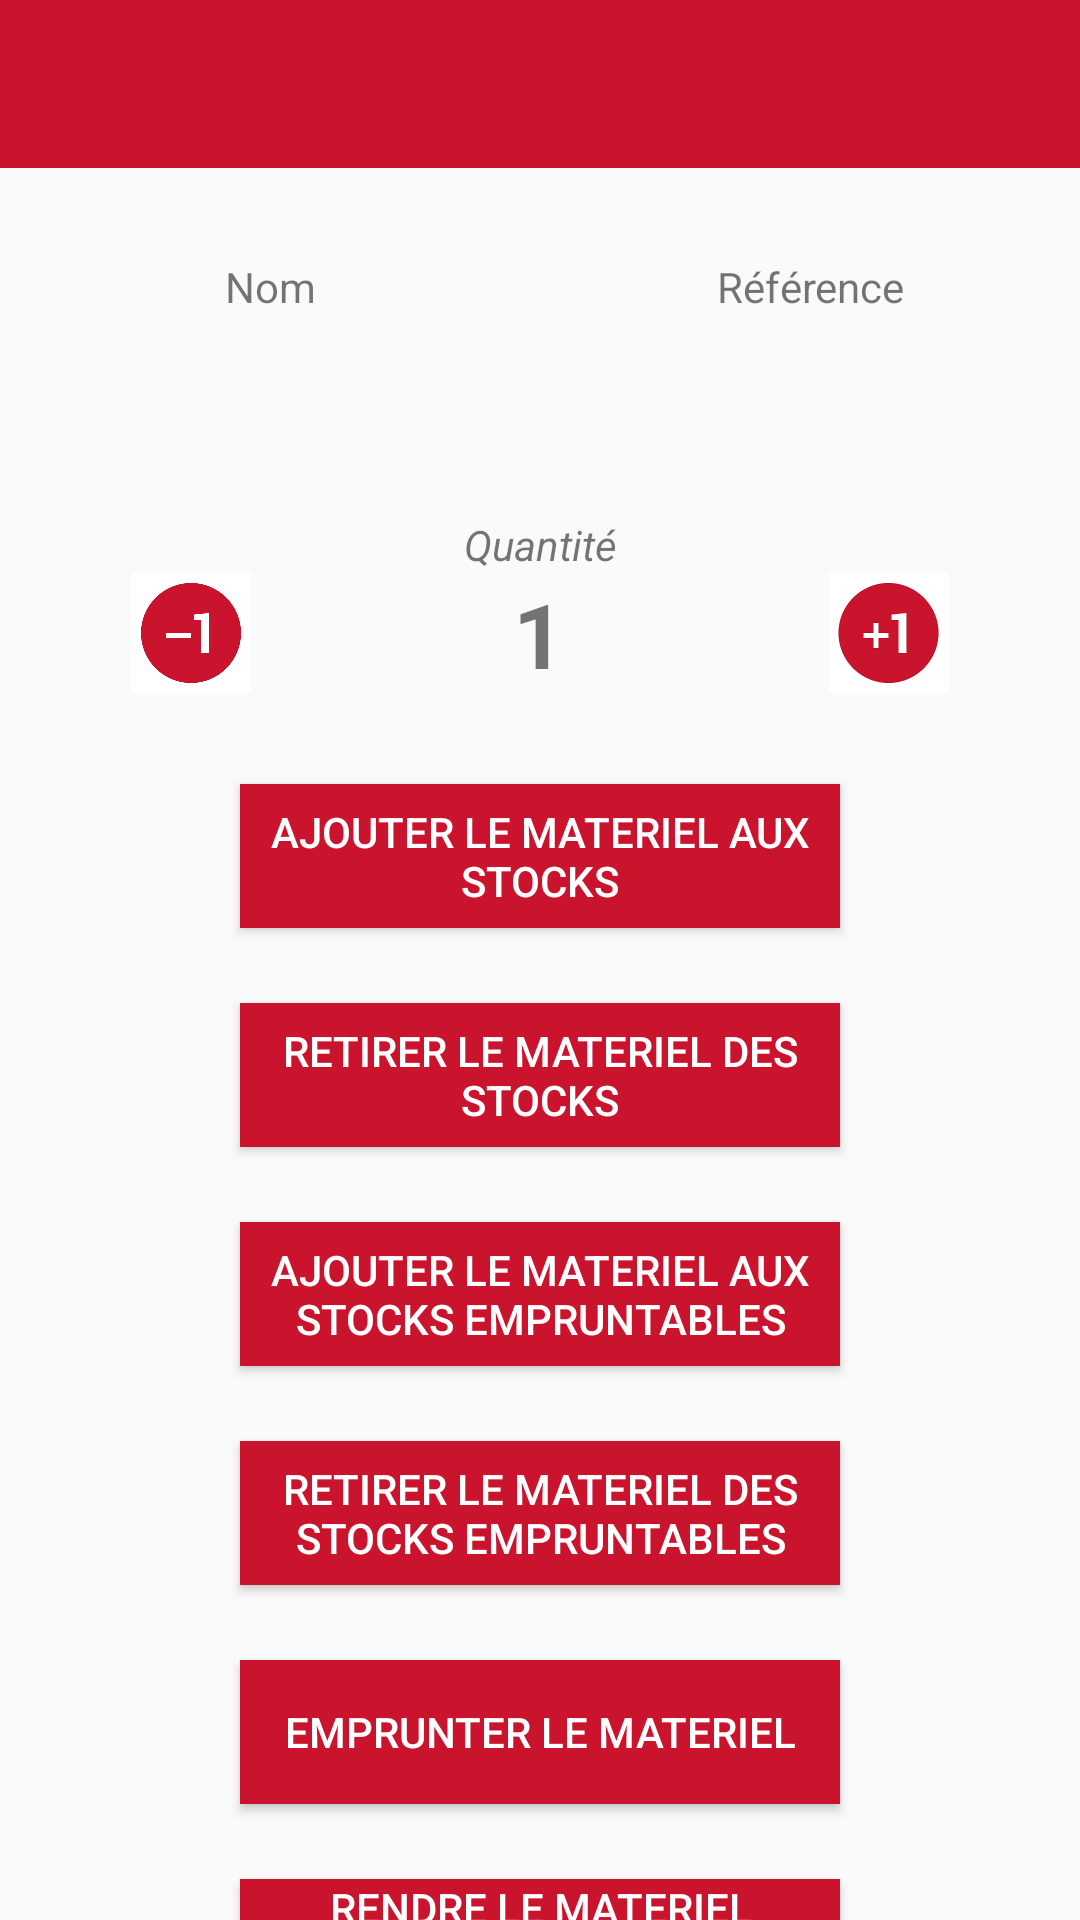

Locate icon controls on the screen. Image size 1080px x 1920px, boxes as (x1, y1, x2, y2).
retirer: (141, 583, 241, 683)
